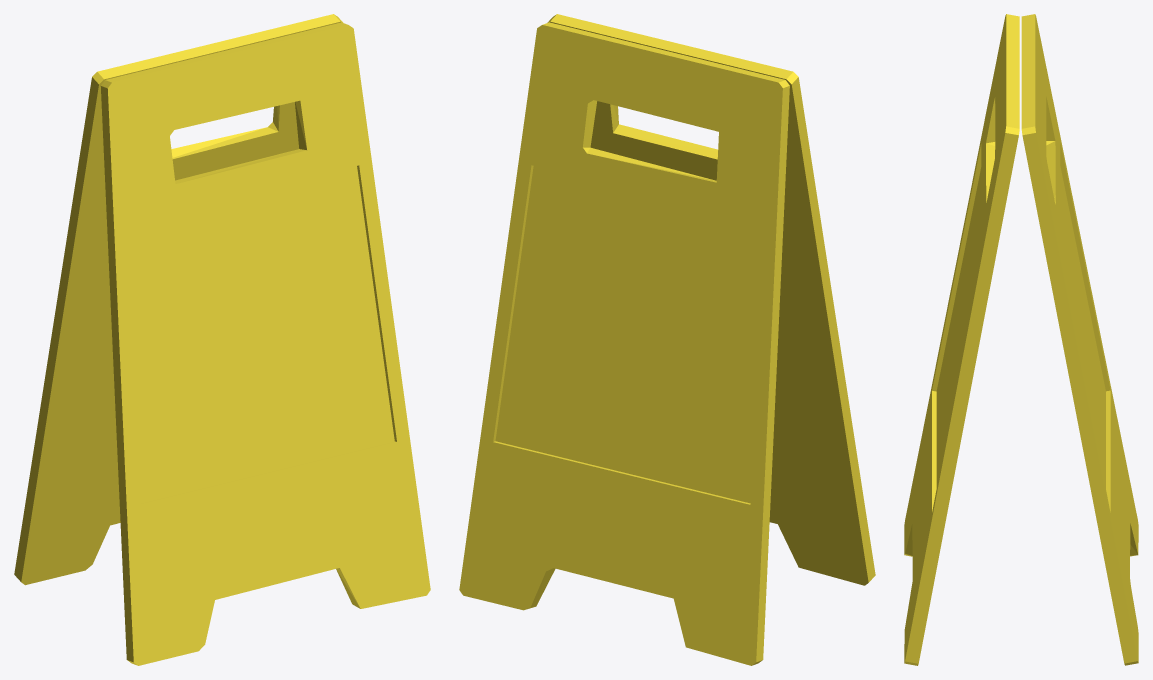
File: WarningSign.dae
The picture shows the model from 3 angles, left to right: view 1: azimuth 30°, elevation 25°; view 2: azimuth 150°, elevation 25°; view 3: azimuth 270°, elevation 25°; orthographic projection. The views are drawn at different scales.
Visible parts, largest first — view 1: warningsign; view 2: warningsign; view 3: warningsign.
Boxes of the visible parts, x1,y1,x2,y2 form: warningsign: [14, 14, 430, 665]; warningsign: [459, 14, 875, 665]; warningsign: [904, 14, 1138, 665].
Bounding box in the file's own units: 0.3507 × 0.2462 × 0.6107.
